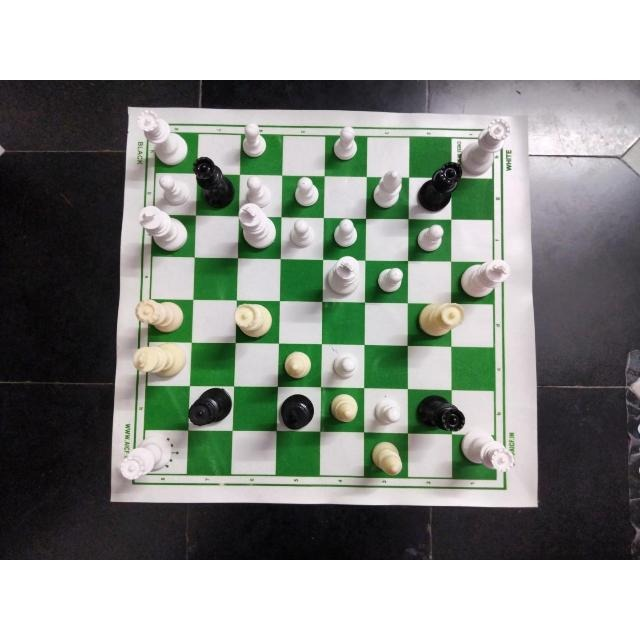black-king: (279, 392, 318, 432)
black-queen: (192, 154, 234, 212), (420, 162, 464, 216), (185, 387, 233, 431), (417, 392, 467, 432)
white-bishop: (279, 344, 315, 384), (371, 167, 403, 211), (370, 440, 407, 478), (325, 388, 360, 427)
white-king: (137, 201, 189, 253), (456, 256, 510, 304), (129, 340, 187, 384), (233, 200, 277, 252), (323, 252, 363, 300)
white-pawn: (414, 221, 446, 257), (238, 121, 267, 160), (154, 174, 187, 208), (371, 395, 404, 429), (327, 347, 359, 380), (288, 175, 319, 209), (372, 265, 407, 295), (241, 174, 270, 210), (331, 123, 359, 160), (329, 218, 359, 249), (285, 218, 314, 249)
white-queen: (133, 108, 187, 164), (117, 434, 174, 486), (461, 116, 511, 172), (458, 428, 514, 473), (416, 298, 465, 345), (128, 297, 185, 335), (233, 301, 271, 337)
